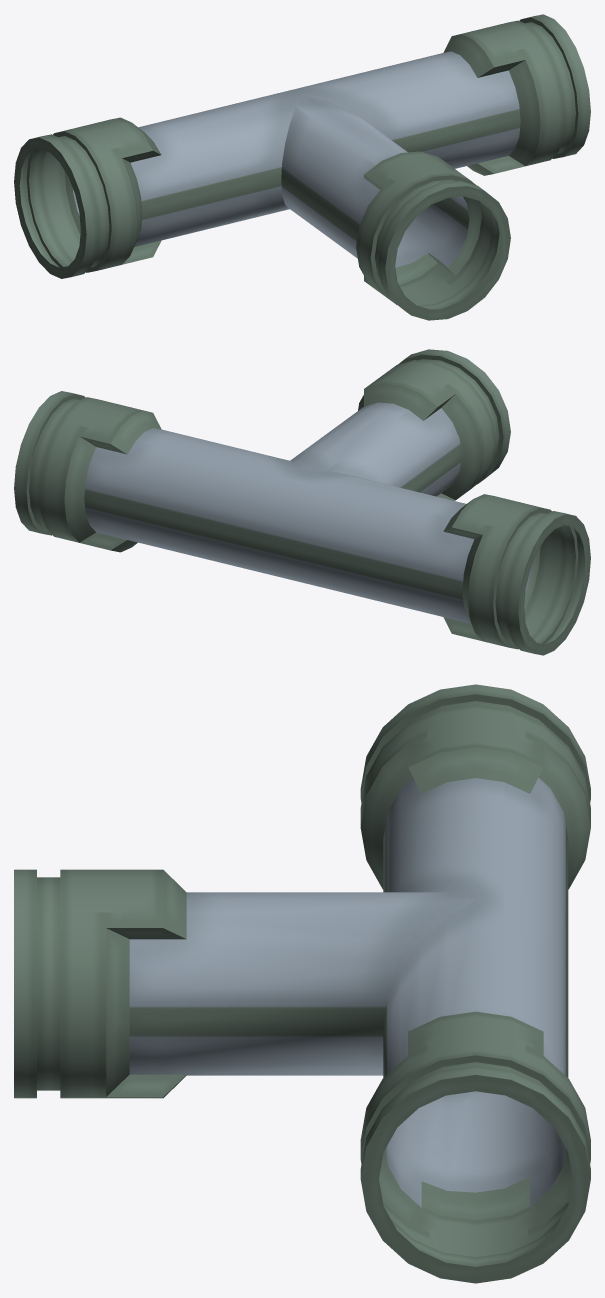
The model's file is pipe tri.fbx.
The picture shows the model from 3 angles, top to bottom: view 1: azimuth 30°, elevation 25°; view 2: azimuth 150°, elevation 25°; view 3: azimuth 270°, elevation 25°; orthographic projection. The views are drawn at different scales.
Visible parts, largest first — view 1: pipe_tri; view 2: pipe_tri; view 3: pipe_tri.
Part boxes in pixels (left/top/right/bottom): pipe_tri: left=14, top=14, right=590, bottom=320; pipe_tri: left=14, top=349, right=590, bottom=655; pipe_tri: left=14, top=684, right=590, bottom=1283.
Bounding box in the file's own units: 10 × 2.49 × 6.25.
1 material, 1 textured.
